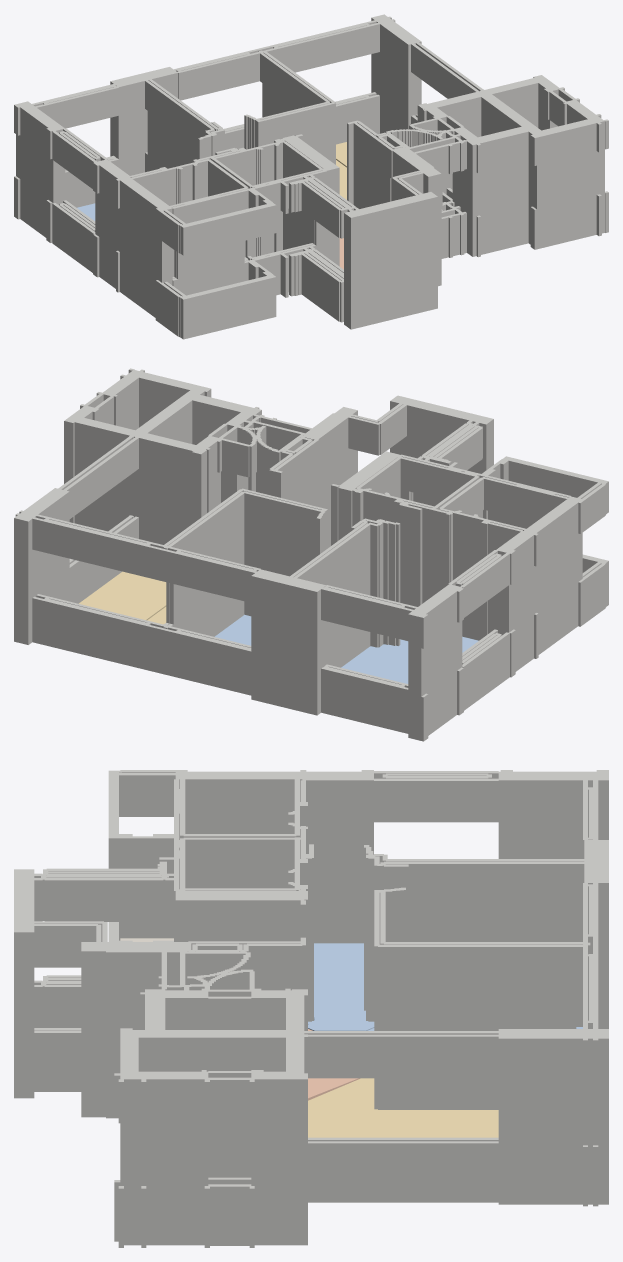
3 views of the same model, one above another, from view 1: azimuth 30°, elevation 25°; view 2: azimuth 150°, elevation 25°; view 3: azimuth 270°, elevation 25° (orthographic). The views are drawn at different scales.
Visible parts, largest first — view 1: walls; view 2: walls, room:living:1, room:bedroom:2, room:bedroom:3; view 3: walls, room:living:0, room:bedroom:2, room:kitchen:8.
Part boxes in pixels (bbox=[...]): walls: bbox=[14, 14, 608, 339]; walls: bbox=[14, 368, 608, 741]; room:living:1: bbox=[79, 571, 166, 620]; room:bedroom:2: bbox=[341, 636, 478, 683]; room:bedroom:3: bbox=[214, 614, 251, 645]; walls: bbox=[14, 770, 608, 1247]; room:living:0: bbox=[308, 1078, 498, 1137]; room:bedroom:2: bbox=[308, 943, 374, 1030]; room:kitchen:8: bbox=[308, 1029, 360, 1100].
Size of the model in its own units: 11.28 by 2.8 by 9.1.
